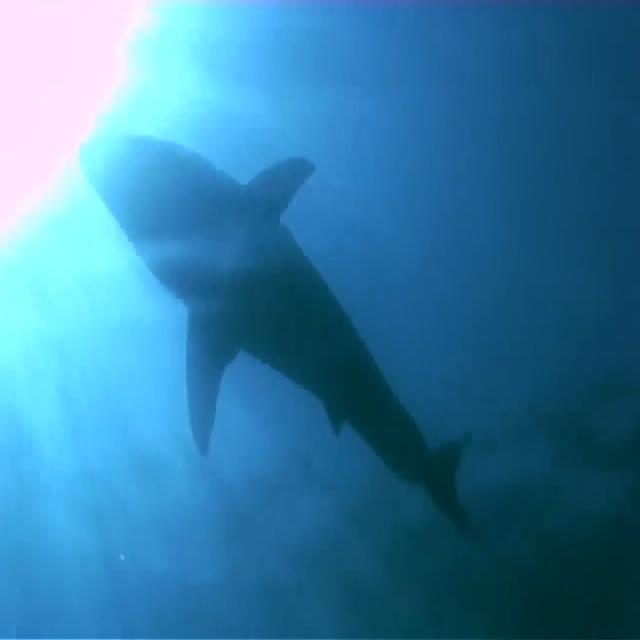Shark -Predatory-: (77, 123, 476, 537)
